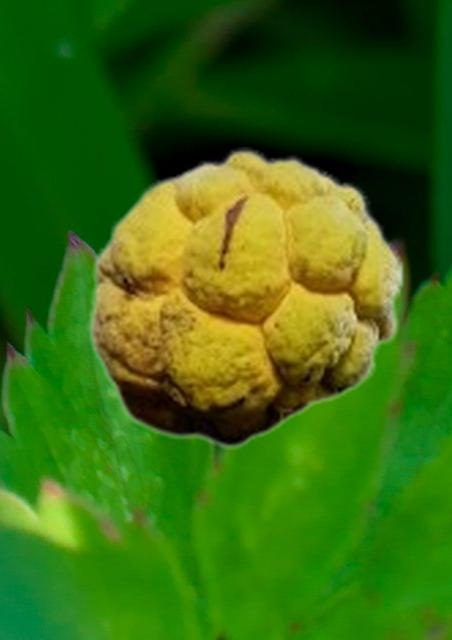atis: (86, 147, 404, 448)
